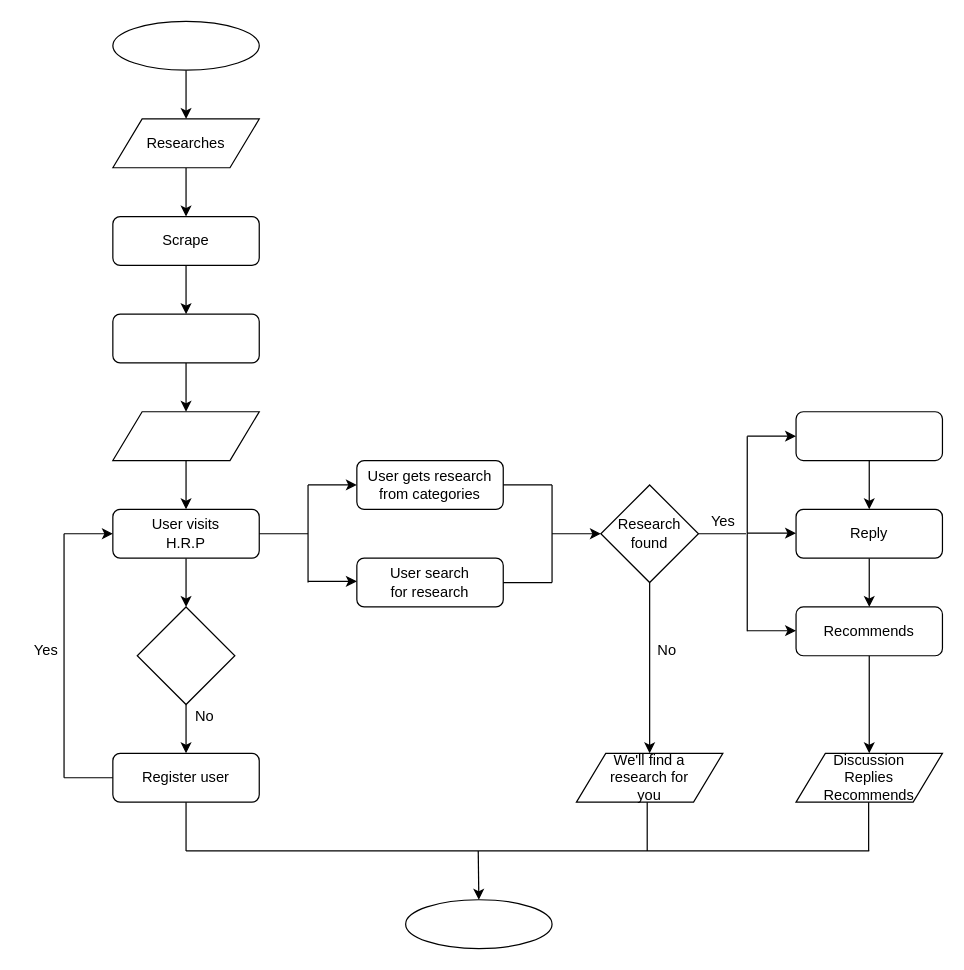
Some shapes in this 964 by 970 pixel diagram are drawn without their labels. Here are the shapes that lost their labels. From the top down, the centre of each, then its label:
pixel 185 45: Start
pixel 185 338: Natural Language Processing
pixel 185 436: Categorized researches
pixel 868 436: Discuss
pixel 185 655: Not registered
pixel 478 924: Stop
